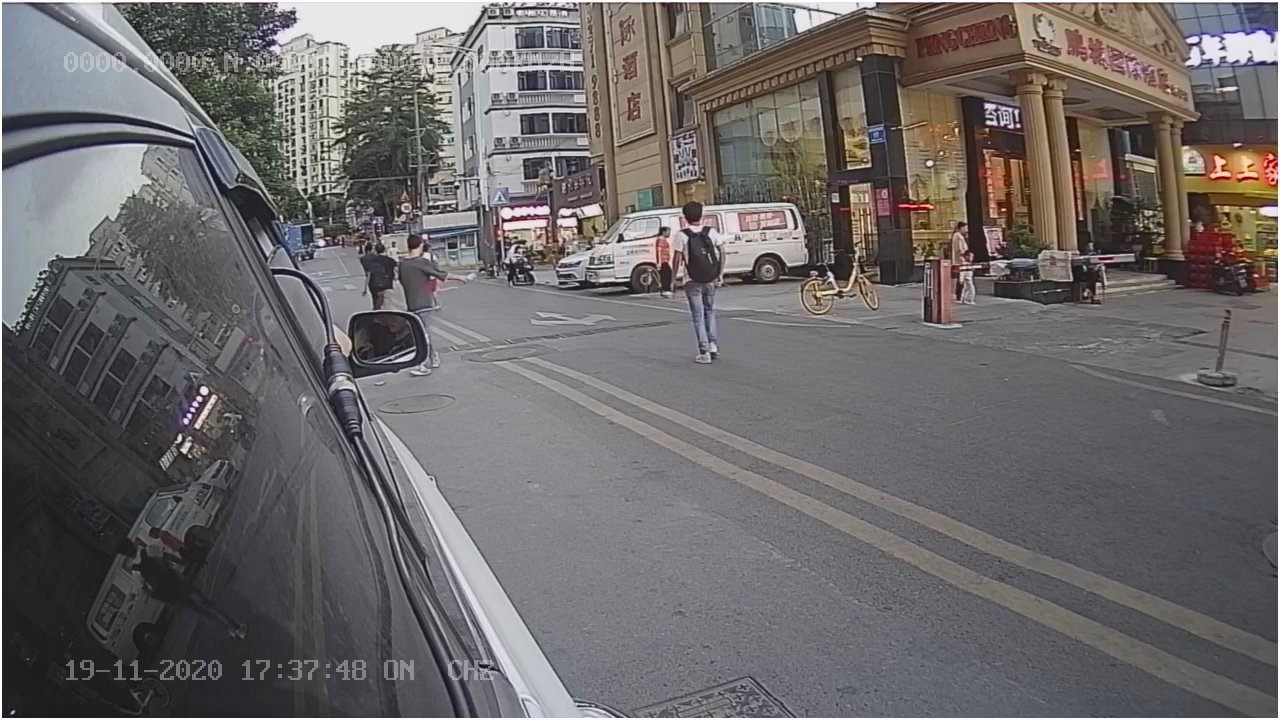person: (668, 194, 735, 343)
